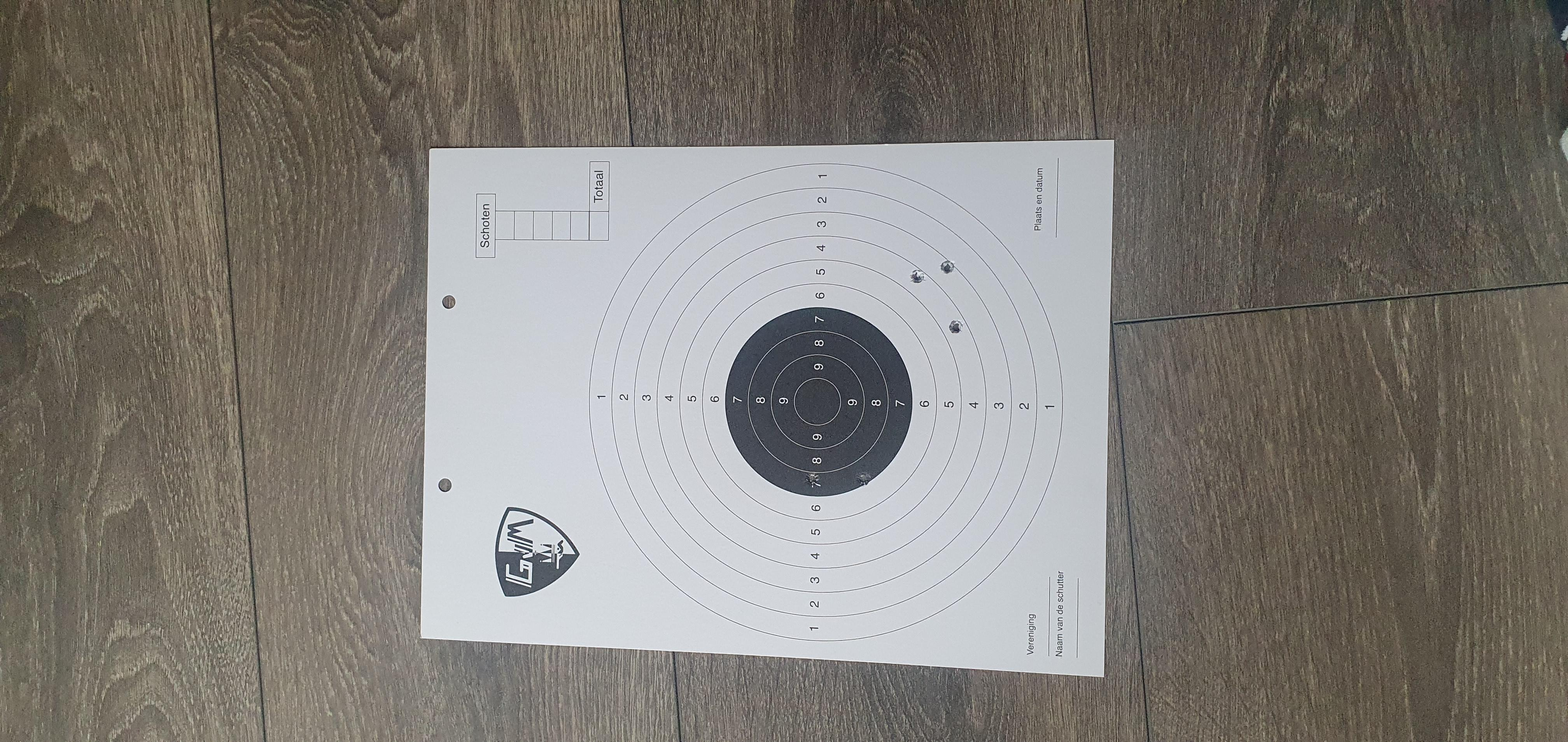hole: (855, 469, 872, 488), (804, 471, 822, 488), (948, 319, 966, 335), (940, 259, 957, 275), (909, 269, 927, 284)
